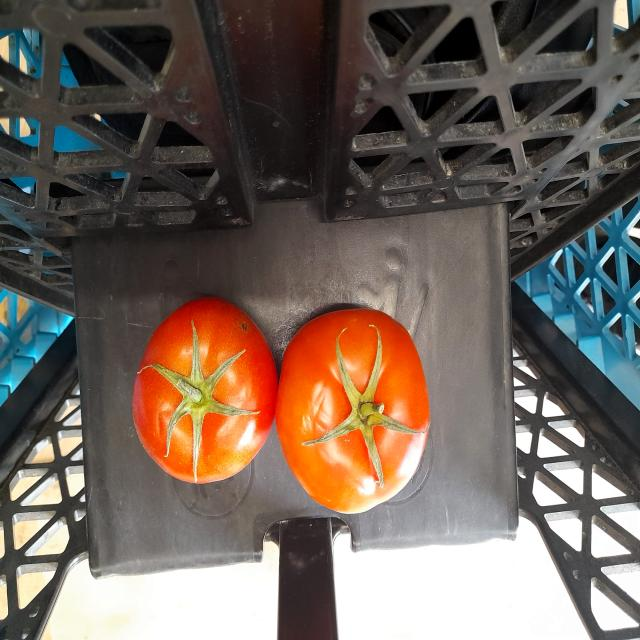tomato: (279, 293, 437, 523), (120, 299, 279, 496)
